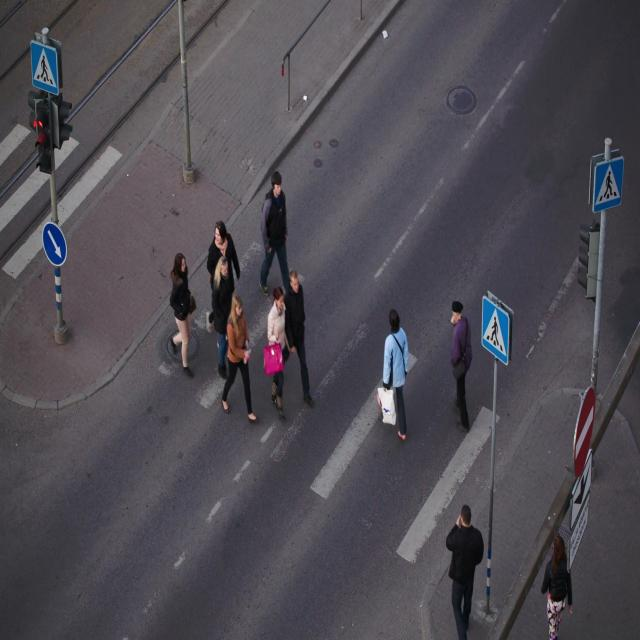pedestrian: (210, 255, 256, 421), (264, 286, 312, 417), (446, 505, 483, 639), (383, 309, 409, 439), (451, 319, 471, 430), (170, 254, 190, 355), (263, 192, 284, 215)
